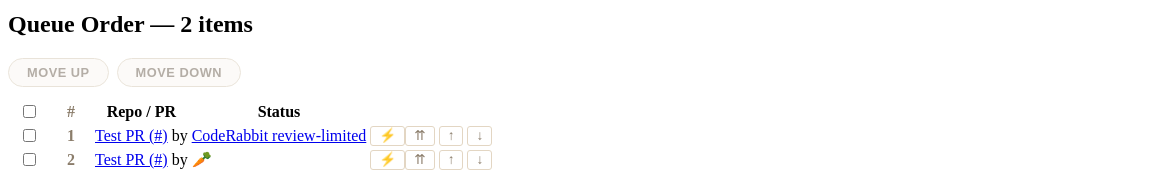
Test: QueueOrder › move actions › shows success toast after move
This screenshot has width=1152, height=187.
Click the button named "Move up" at (451, 136), box [439,126,463,146]
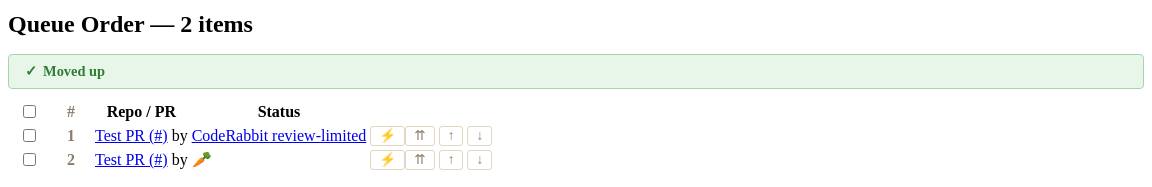
Result: the text "Moved up" is shown at [8,54,1144,89]
